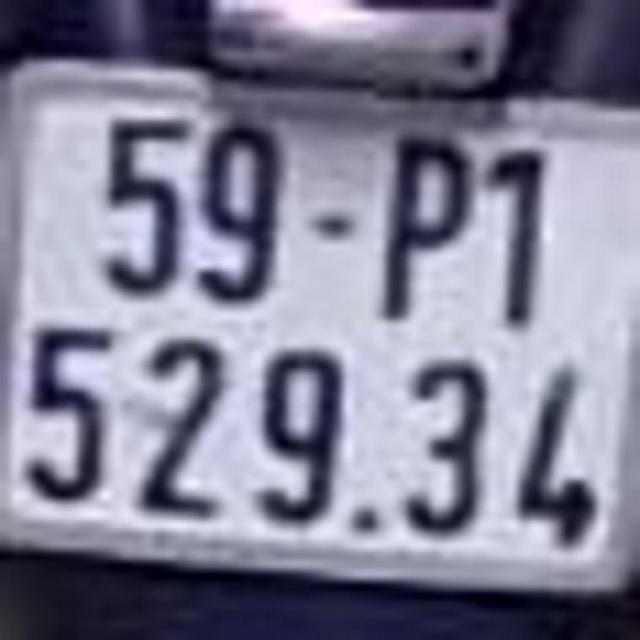1: (483, 144, 554, 346)
2: (134, 332, 222, 528)
3: (402, 354, 490, 549)
4: (510, 361, 608, 553)
5: (101, 109, 190, 298), (26, 308, 108, 507)
9: (194, 116, 288, 316), (256, 338, 340, 529)
P: (378, 128, 477, 314)
